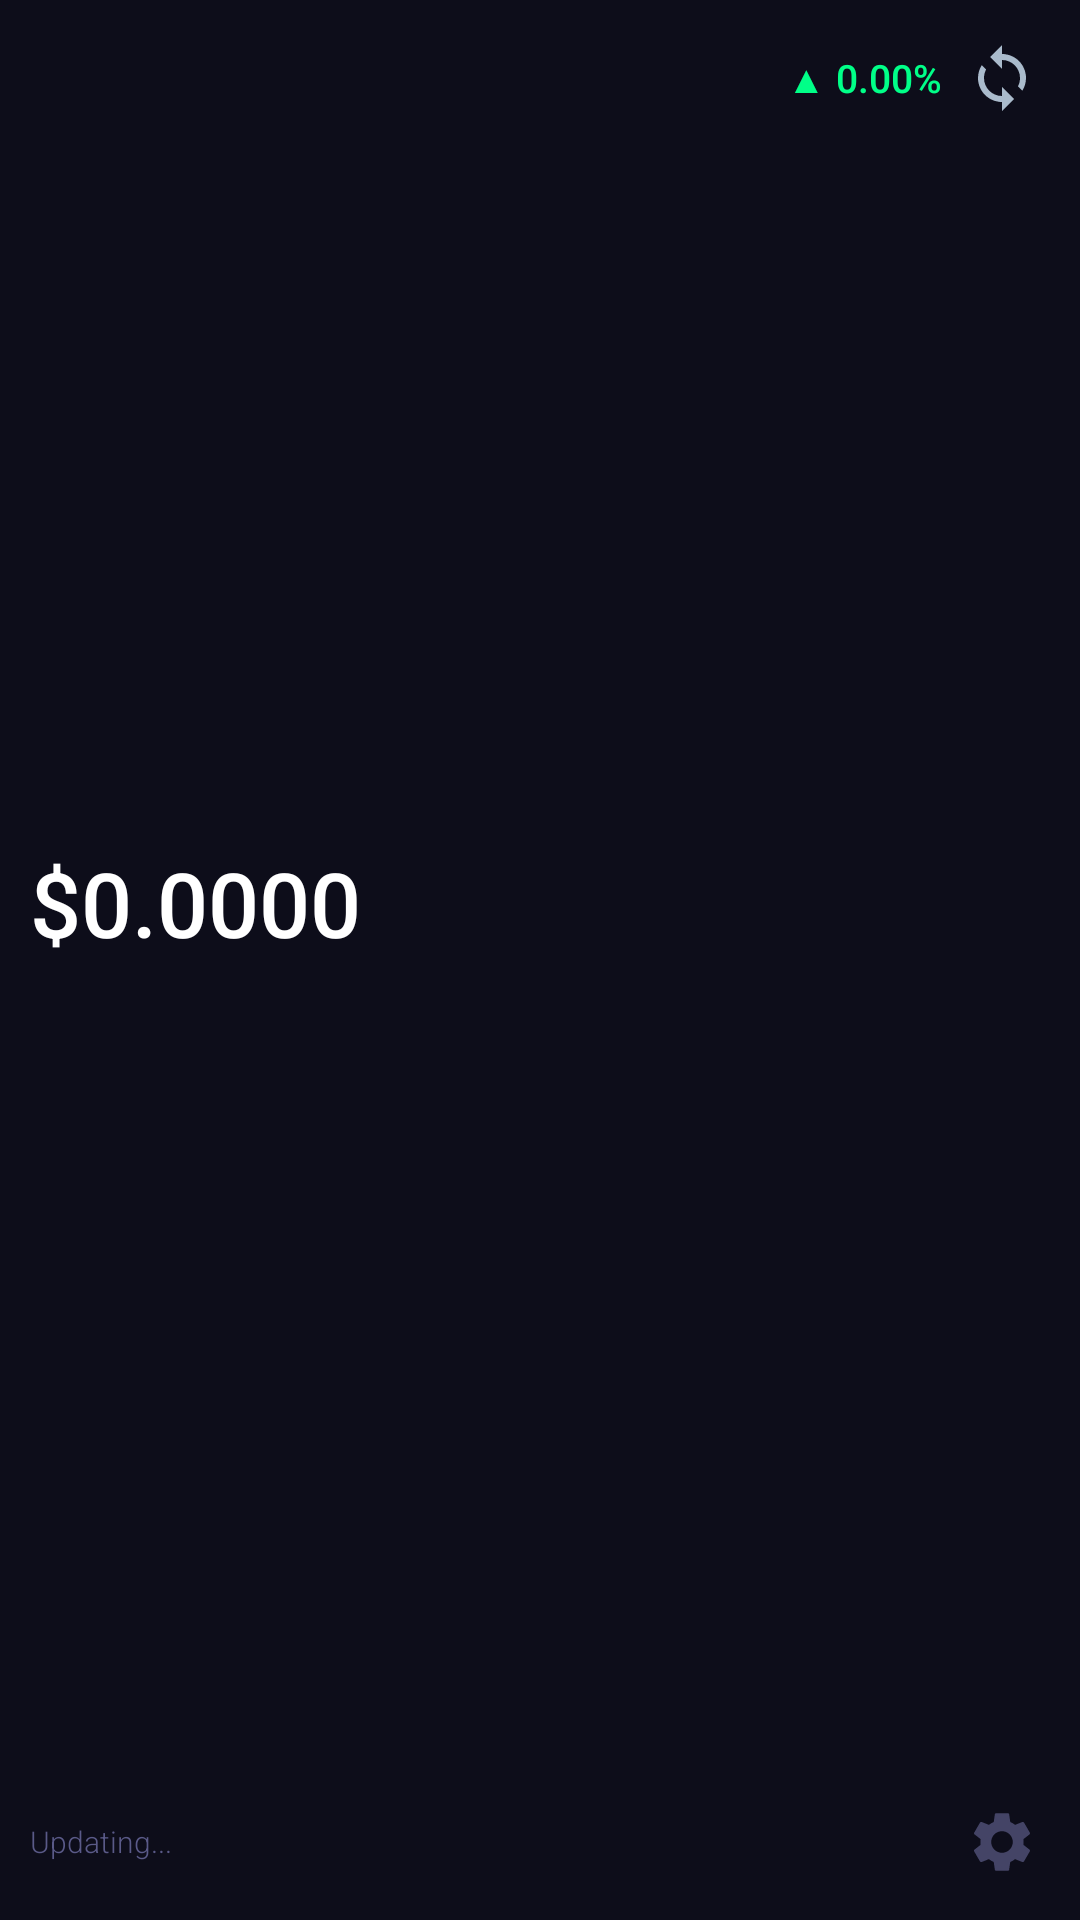

Screen size 1080px×1920px. Icon name, then its center in pixels as point (x, y):
Refresh: point (1002, 78)
Settings: point (1002, 1842)
